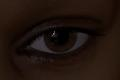eye: (44, 29, 78, 52)
